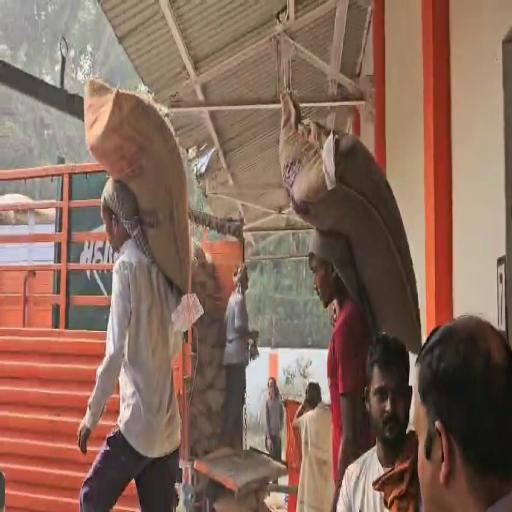bag: (278, 88, 422, 350), (83, 76, 191, 294)
